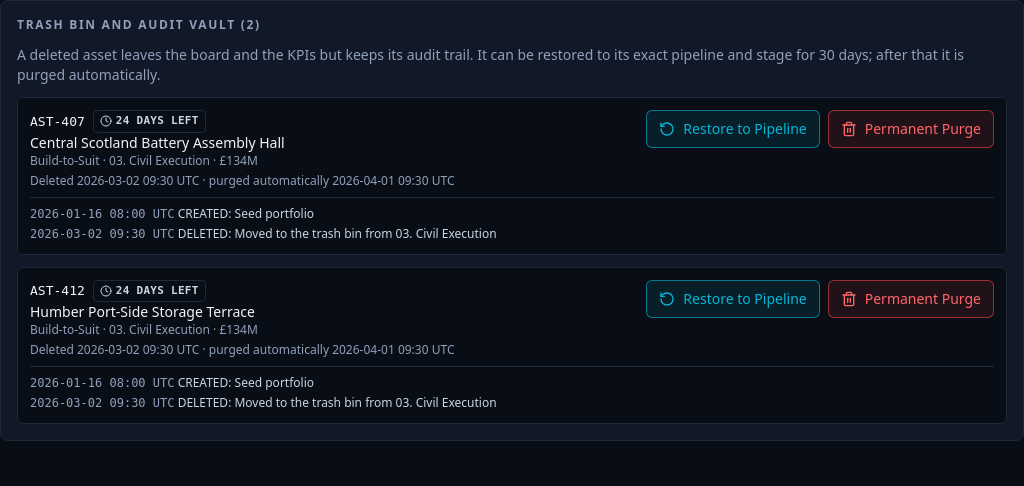
Test: TrashView › keeps the confirmation of a second asset open when the first purge finishes
Click the button with aria-label "Permanent purge of AST-407" at [911, 129], box [828,110,994,148]
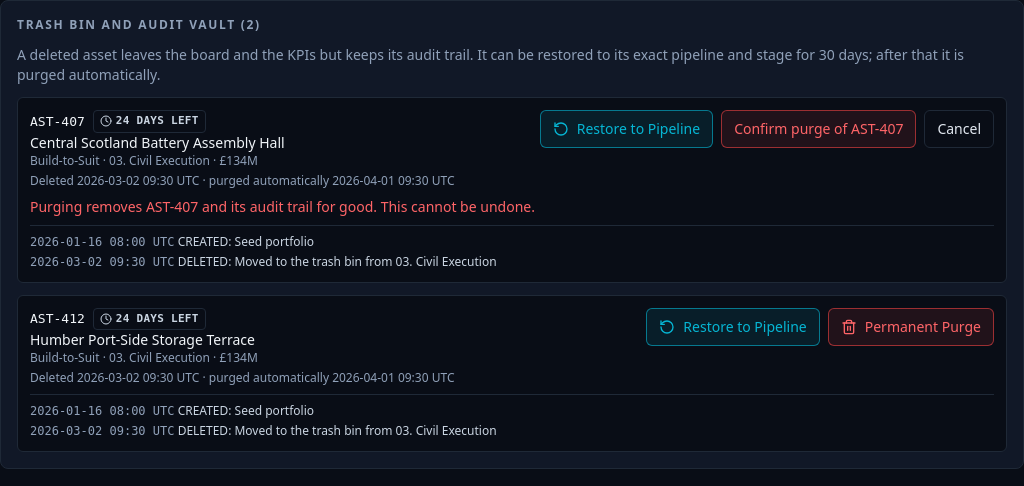
Click the button "Confirm purge of AST-407" at [819, 129], box [721,110,916,148]
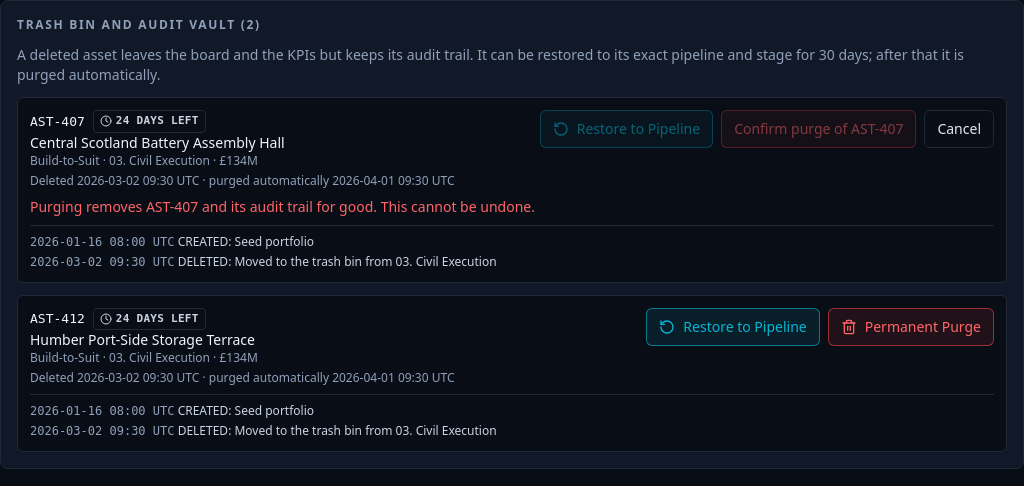
Click the button with aria-label "Permanent purge of AST-412" at [911, 326], box [828,308,994,346]
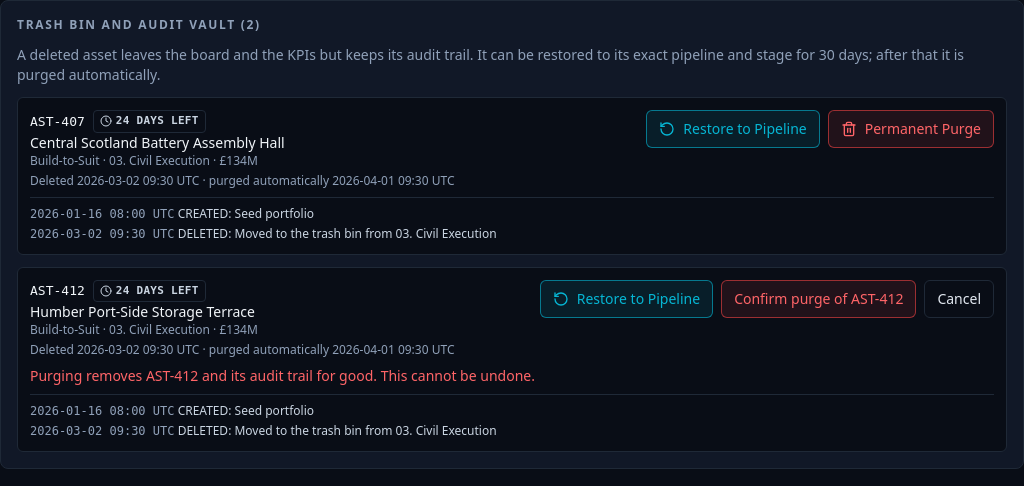
Expected: the button with aria-label "Permanent purge of AST-407" is shown, [828,110,994,148]
Expected: the button "Confirm purge of AST-412" is shown, [721,280,916,318]
